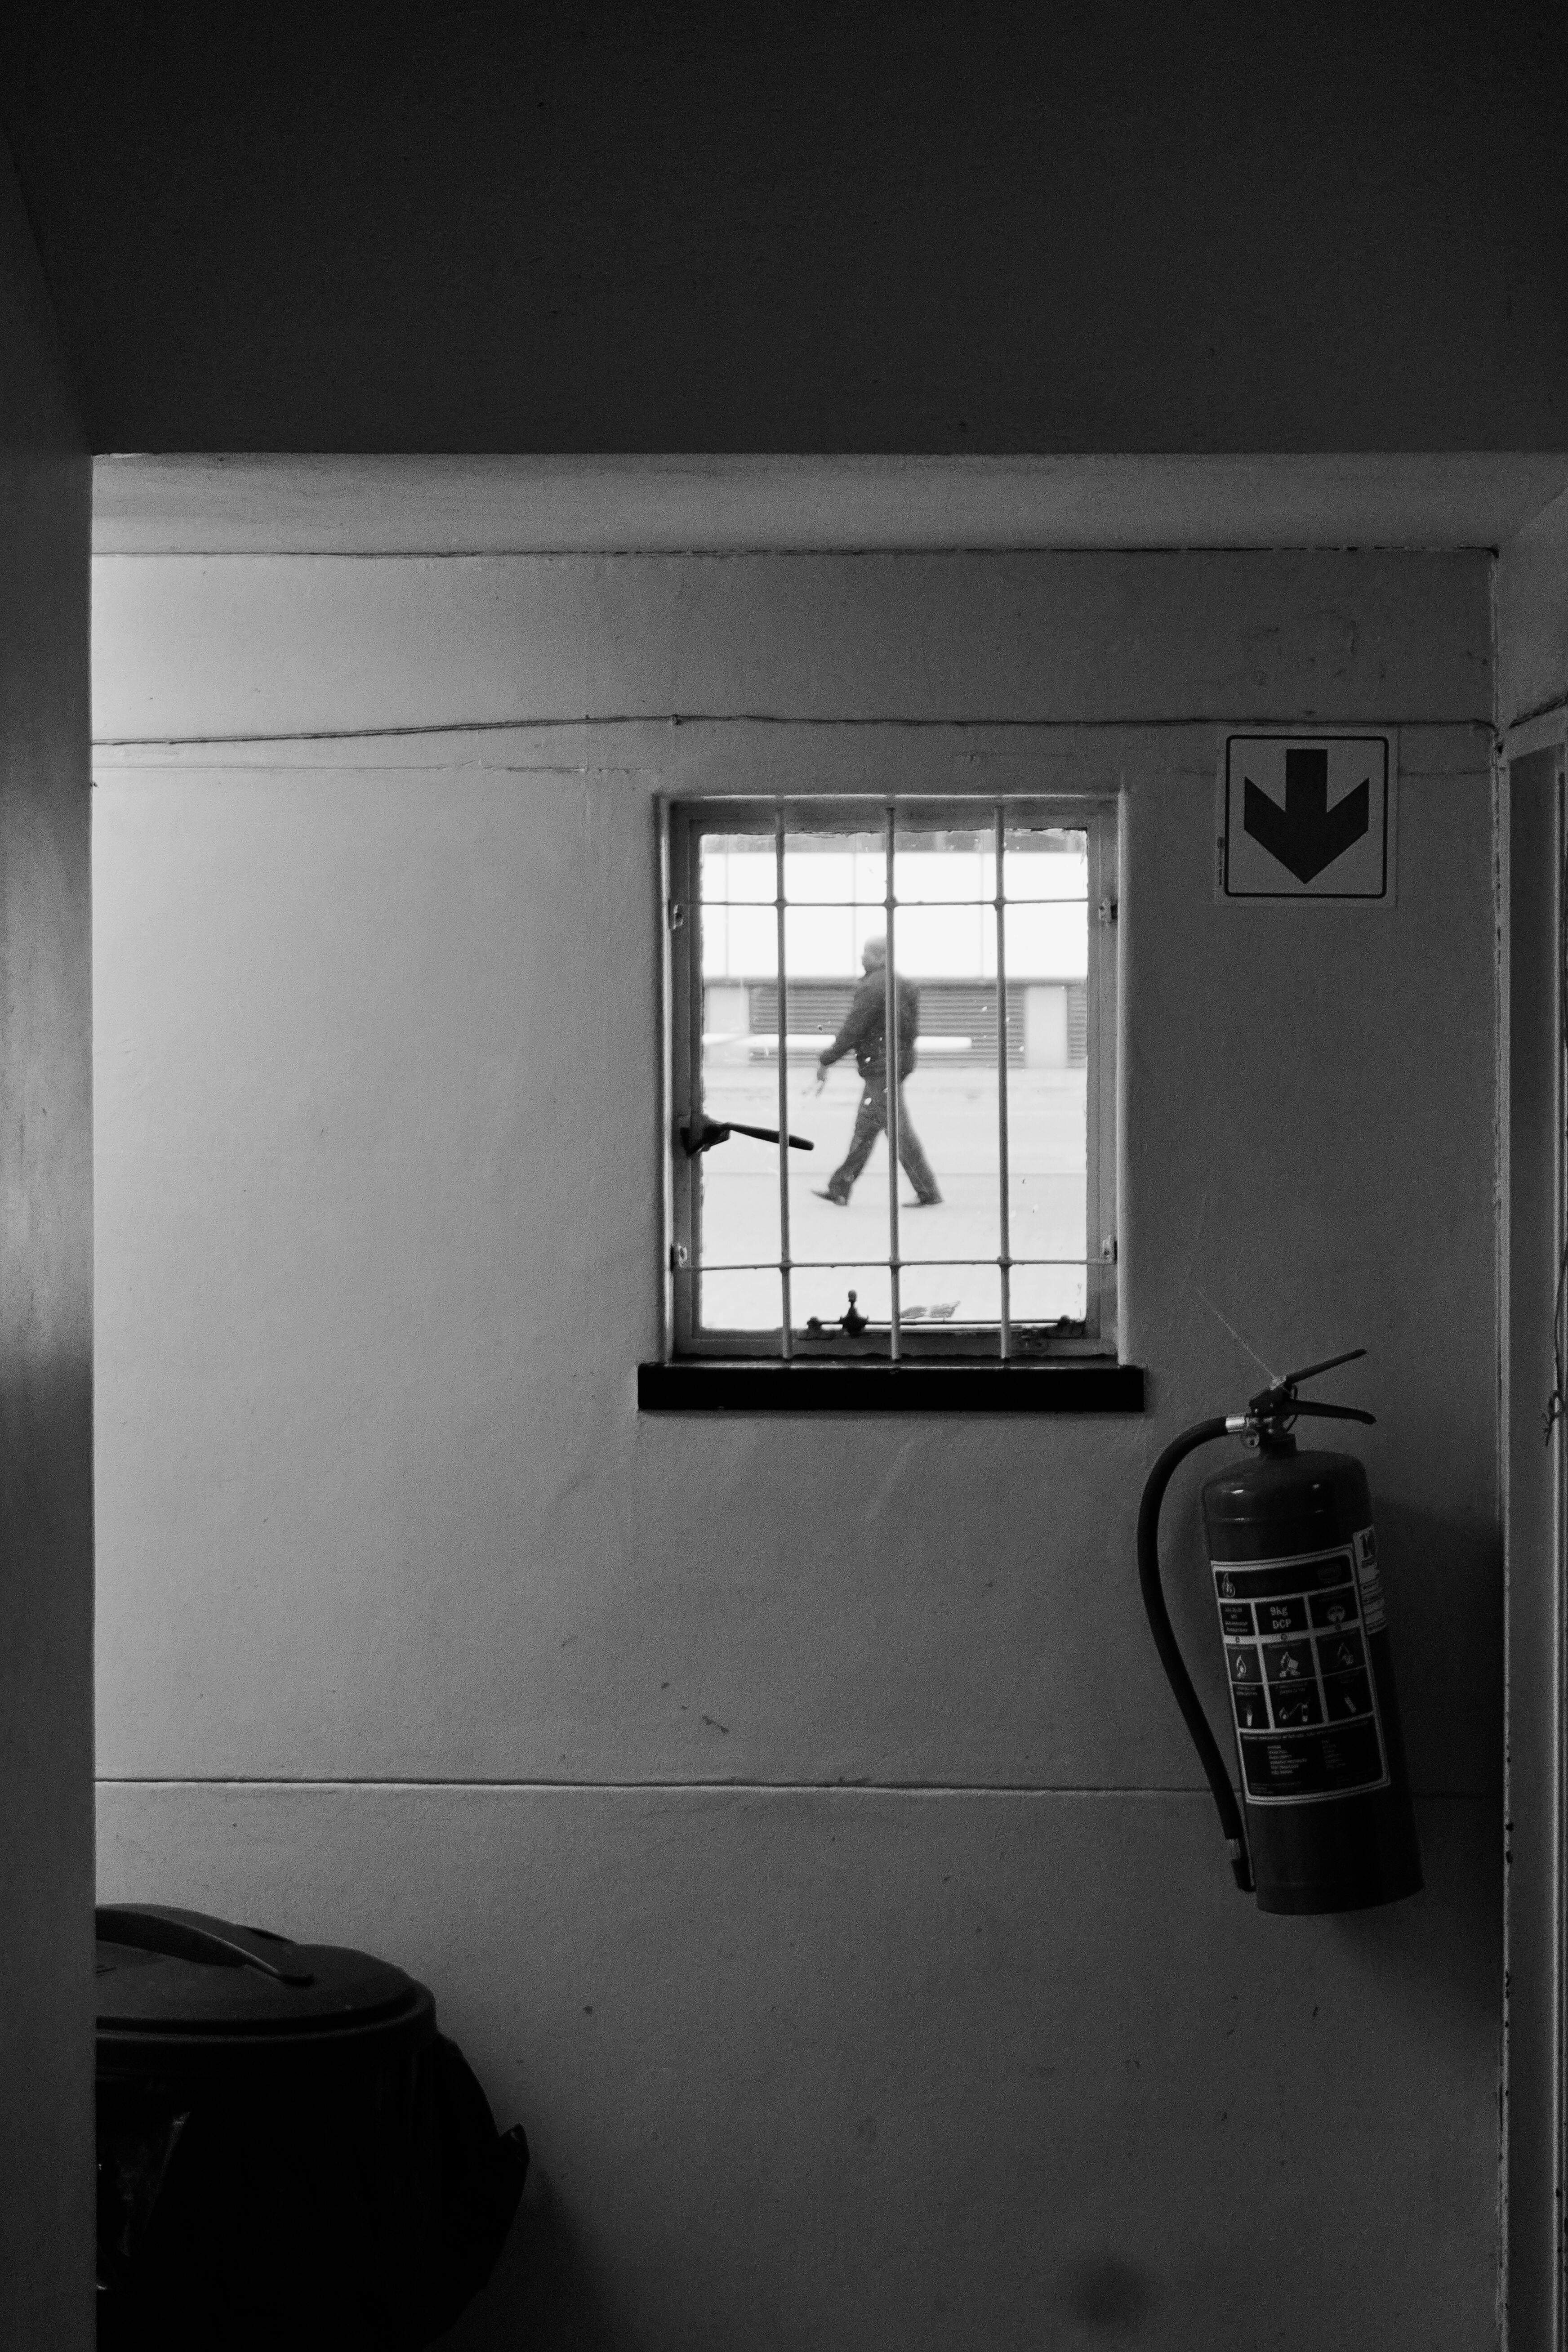extintor: (1127, 1333, 1439, 1918)
